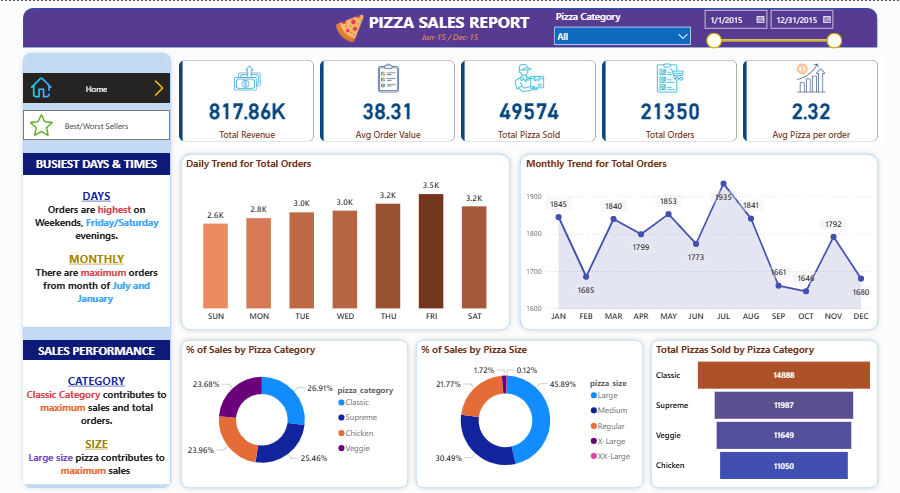

The page's visual inventory and layout, read from the dashboard file:
{"tool":"powerbi","page":{"name":"Home","canvas":[1500,820],"ordinal":0},"visuals":[{"type":"shape","box":[30,78.3,263.3,741.7],"z":0},{"type":"shape","box":[38,12,1424,66],"z":1000},{"type":"cardVisual","fields":{"Data":["pizza_sales.Total Revenue","pizza_sales.Avg Order Value","pizza_sales.Total Pizza Sold","pizza_sales.Total Orders","pizza_sales.Avg Pizza per order"]},"box":[294,94,1178,146],"z":2000},{"type":"textbox","box":[680,46,140,40],"z":3000},{"type":"textbox","box":[584,12,330,56],"z":4000},{"type":"image","box":[550,16,66,58],"z":5000},{"type":"shape","box":[293.3,246.7,565,310],"z":6000},{"type":"columnChart","title":"Daily Trend for Total Orders","fields":{"Category":["pizza_sales.Order Day"],"Y":["pizza_sales.Total Orders"]},"box":[305,260,541.7,283.3],"z":7000},{"type":"shape","box":[858.3,246.7,613.3,310],"z":8000},{"type":"areaChart","title":"Monthly Trend for Total Orders","fields":{"Y":["pizza_sales.Total Orders"],"Category":["pizza_sales.Order Month"]},"box":[871.7,260,586.7,283.3],"z":9000},{"type":"shape","box":[293.3,556.7,395,263.3],"z":10000},{"type":"shape","box":[685,556.7,395,263.3],"z":11000},{"type":"shape","box":[1076.7,556.7,395,263.3],"z":12000},{"type":"donutChart","title":"% of Sales by Pizza Category","fields":{"Category":["pizza_sales.pizza_category"],"Y":["pizza_sales.Total Revenue"]},"box":[305,570,371.7,235],"z":13000},{"type":"donutChart","title":"% of Sales by Pizza Size","fields":{"Y":["pizza_sales.Total Revenue"],"Category":["pizza_sales.pizza_size"]},"box":[696.7,570,371.7,236.7],"z":14000},{"type":"funnel","title":"Total Pizzas Sold by Pizza Category","fields":{"Category":["pizza_sales.pizza_category"],"Y":["pizza_sales.Total Pizza Sold"]},"box":[1088.3,570,371.7,236.7],"z":15000},{"type":"textbox","box":[38.3,253.3,245,36.7],"z":16000},{"type":"textbox","box":[38.3,290,245,253.3],"z":17000},{"type":"textbox","box":[38.3,565,245,36.7],"z":18000},{"type":"textbox","box":[38.3,598.3,245,206.7],"z":19000},{"type":"slicer","fields":{"Values":["pizza_sales.pizza_category"]},"box":[913.3,10,248.3,70],"z":20000},{"type":"slicer","fields":{"Values":["pizza_sales.order_date"]},"box":[1161.7,5,250,78.3],"z":21000},{"type":"pageNavigator","box":[38.3,120,245,50],"z":22000},{"type":"pageNavigator","box":[38.3,181.7,245,50],"z":23000},{"type":"image","box":[246.7,121.7,36.7,46.7],"z":24000},{"type":"image","box":[38.3,121.7,61.7,45],"z":25000},{"type":"image","box":[45,181.7,48.3,50],"z":26000}]}

Visuals, with their boxes in screenshot pixels (x1, y1, x2, y2), scaled from the page's 1500x820 canvas onto the 900x493 screenshot:
shape: {"left": 18, "top": 47, "right": 176, "bottom": 492}
shape: {"left": 23, "top": 7, "right": 877, "bottom": 47}
cardVisual - pizza_sales.Total Revenue x pizza_sales.Avg Order Value: {"left": 176, "top": 57, "right": 883, "bottom": 144}
textbox: {"left": 408, "top": 28, "right": 492, "bottom": 52}
textbox: {"left": 350, "top": 7, "right": 548, "bottom": 41}
image: {"left": 330, "top": 10, "right": 370, "bottom": 44}
shape: {"left": 176, "top": 148, "right": 515, "bottom": 335}
"Daily Trend for Total Orders" columnChart: {"left": 183, "top": 156, "right": 508, "bottom": 327}
shape: {"left": 515, "top": 148, "right": 883, "bottom": 335}
"Monthly Trend for Total Orders" areaChart: {"left": 523, "top": 156, "right": 875, "bottom": 327}
shape: {"left": 176, "top": 335, "right": 413, "bottom": 492}
shape: {"left": 411, "top": 335, "right": 648, "bottom": 492}
shape: {"left": 646, "top": 335, "right": 883, "bottom": 492}
"% of Sales by Pizza Category" donutChart: {"left": 183, "top": 343, "right": 406, "bottom": 484}
"% of Sales by Pizza Size" donutChart: {"left": 418, "top": 343, "right": 641, "bottom": 485}
"Total Pizzas Sold by Pizza Category" funnel: {"left": 653, "top": 343, "right": 876, "bottom": 485}
textbox: {"left": 23, "top": 152, "right": 170, "bottom": 174}
textbox: {"left": 23, "top": 174, "right": 170, "bottom": 327}
textbox: {"left": 23, "top": 340, "right": 170, "bottom": 362}
textbox: {"left": 23, "top": 360, "right": 170, "bottom": 484}
slicer - pizza_sales.pizza_category: {"left": 548, "top": 6, "right": 697, "bottom": 48}
slicer - pizza_sales.order_date: {"left": 697, "top": 3, "right": 847, "bottom": 50}
pageNavigator: {"left": 23, "top": 72, "right": 170, "bottom": 102}
pageNavigator: {"left": 23, "top": 109, "right": 170, "bottom": 139}
image: {"left": 148, "top": 73, "right": 170, "bottom": 101}
image: {"left": 23, "top": 73, "right": 60, "bottom": 100}
image: {"left": 27, "top": 109, "right": 56, "bottom": 139}
